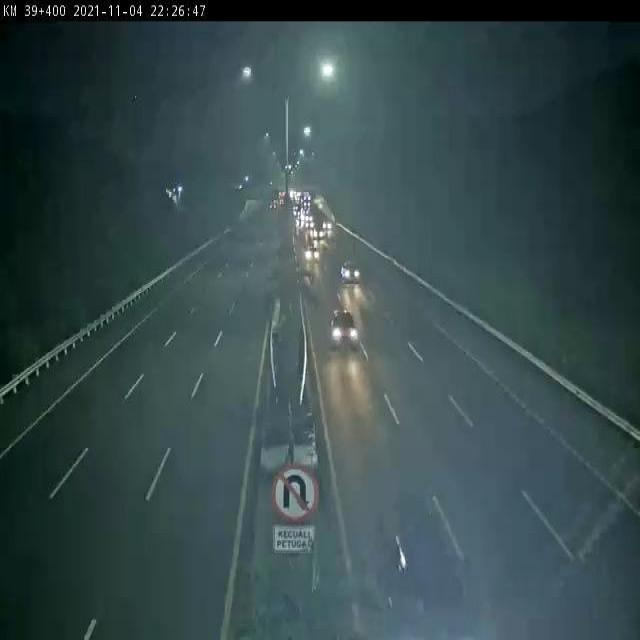car: (319, 303, 372, 348)
